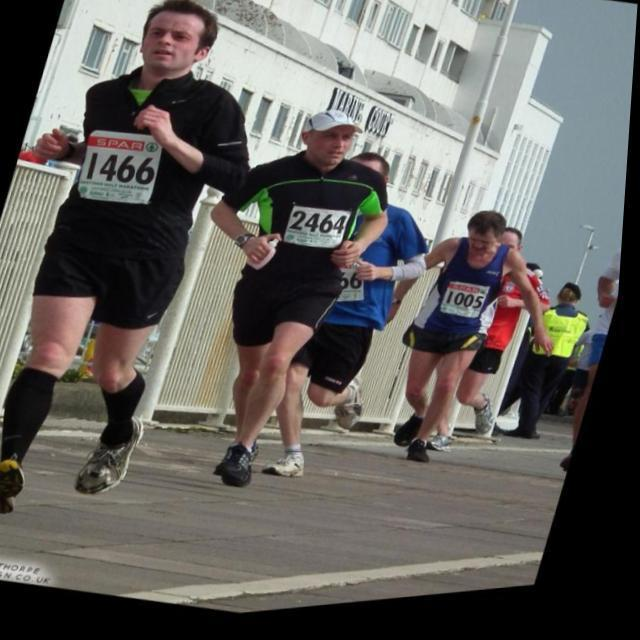dorsal: (64, 116, 185, 226), (271, 197, 366, 272), (436, 278, 502, 338)
